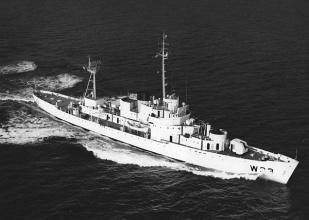warship: (32, 30, 301, 187)
